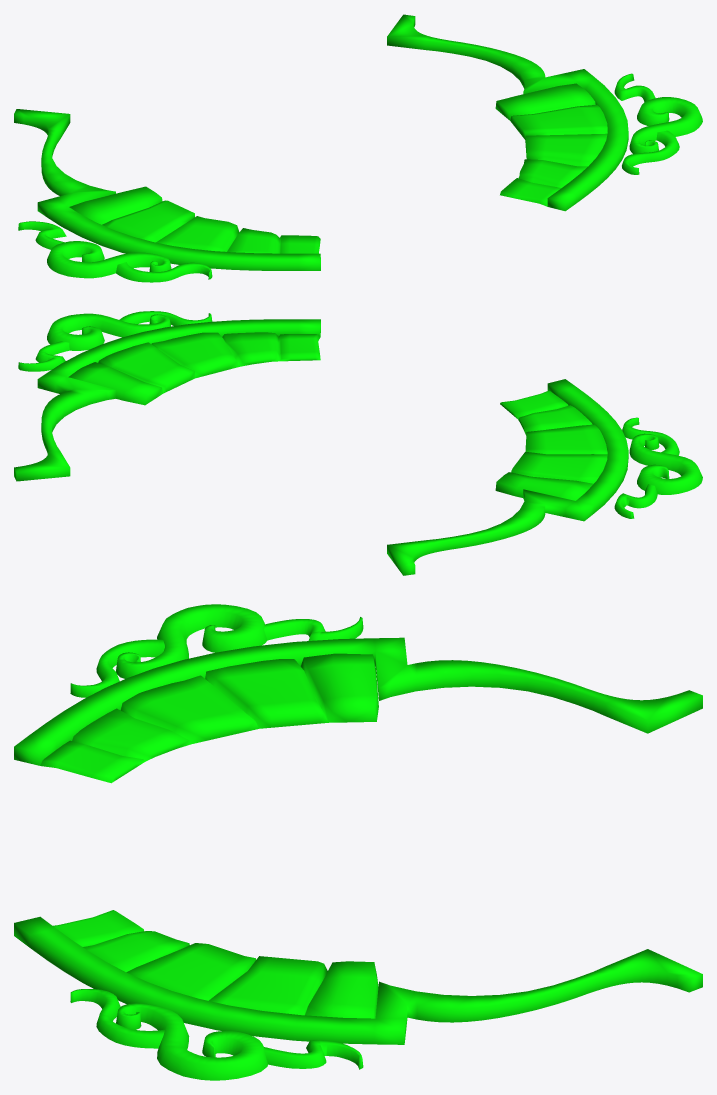
The model's file is SM_CapZoneOrnaments.fbx.
3 views of the same model, one above another, from view 1: azimuth 30°, elevation 25°; view 2: azimuth 150°, elevation 25°; view 3: azimuth 270°, elevation 25° (orthographic). The views are drawn at different scales.
Visible parts, largest first — view 1: CapzoneSteps, BigArc, Squiggle01, Squiggle03, Squiggle02; view 2: CapzoneSteps, BigArc, Squiggle01, Squiggle02, Squiggle03; view 3: CapzoneSteps, BigArc, Squiggle01, Squiggle03, Squiggle02.
Part boxes in pixels (left/top/right/bottom): CapzoneSteps: left=69, top=83, right=607, bottom=253; BigArc: left=14, top=14, right=628, bottom=270; Squiggle01: left=47, top=97, right=702, bottom=278; Squiggle03: left=116, top=130, right=679, bottom=282; Squiggle02: left=18, top=73, right=655, bottom=249; CapzoneSteps: left=68, top=332, right=607, bottom=500; BigArc: left=14, top=319, right=628, bottom=575; Squiggle01: left=47, top=313, right=702, bottom=494; Squiggle02: left=18, top=341, right=657, bottom=518; Squiggle03: left=119, top=311, right=679, bottom=455; CapzoneSteps: left=40, top=653, right=378, bottom=1018; BigArc: left=14, top=637, right=702, bottom=1044; Squiggle01: left=116, top=604, right=267, bottom=1080; Squiggle03: left=70, top=639, right=164, bottom=1048; Squiggle02: left=264, top=617, right=363, bottom=1069.
Size of the model in its own units: 1457 by 20.41 by 911.
